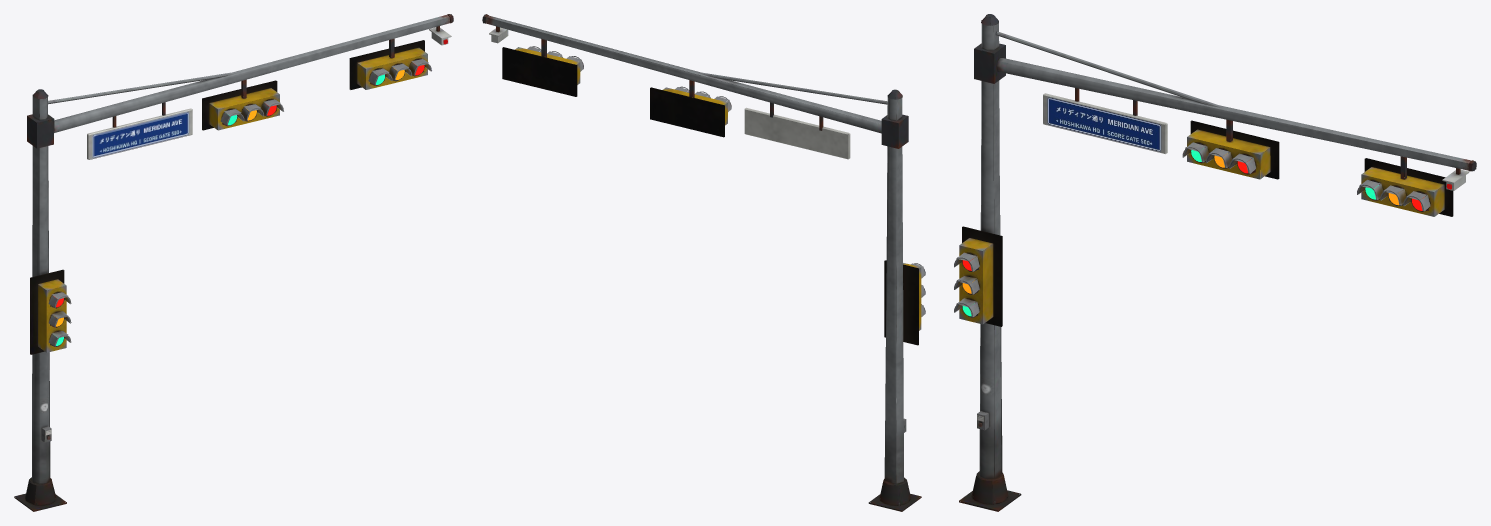
Rendered from traffic_light_mast_lod1.glb.
3 renders of one model, left to right at view 1: azimuth 30°, elevation 25°; view 2: azimuth 150°, elevation 25°; view 3: azimuth 330°, elevation 25°, orthographic. The views are drawn at different scales.
Parts seen in each view (by area): view 1: traffic_light_mast; view 2: traffic_light_mast; view 3: traffic_light_mast.
Boxes of the visible parts, x1,y1,x2,y2 form: traffic_light_mast: (14, 14, 453, 511); traffic_light_mast: (482, 14, 925, 511); traffic_light_mast: (954, 14, 1476, 511).
Size of what is drawn, in the model's own units: 6.95 by 6.36 by 0.908.
Materials: 1 (1 with a texture image).
